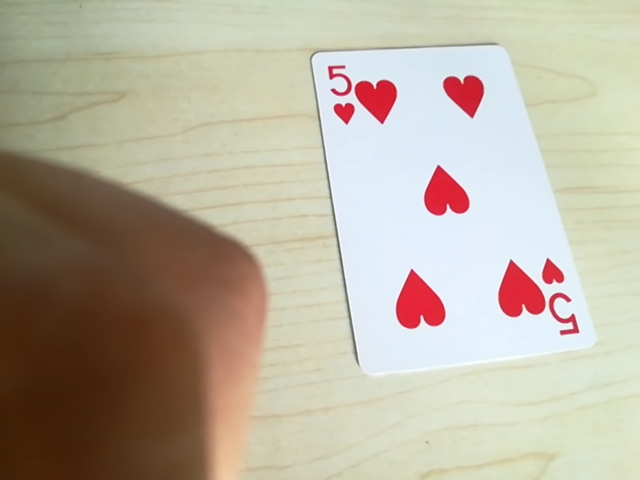hx 5: (545, 256, 579, 341), (323, 60, 366, 121)
